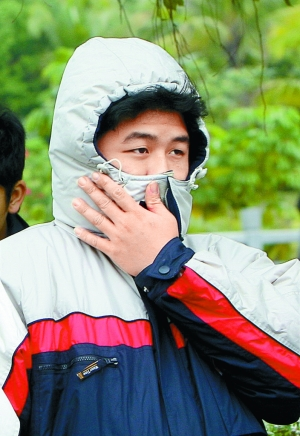face_mask: (100, 102, 190, 245)
